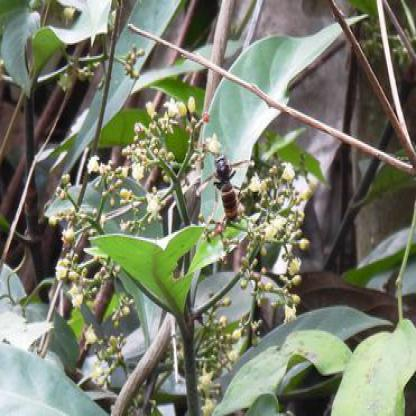Asian Hornet: (196, 147, 247, 231)
